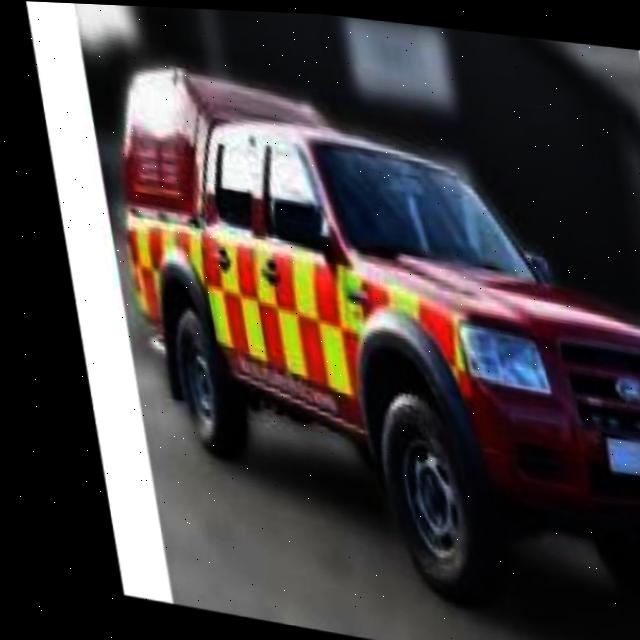emergency: (84, 52, 640, 620)
